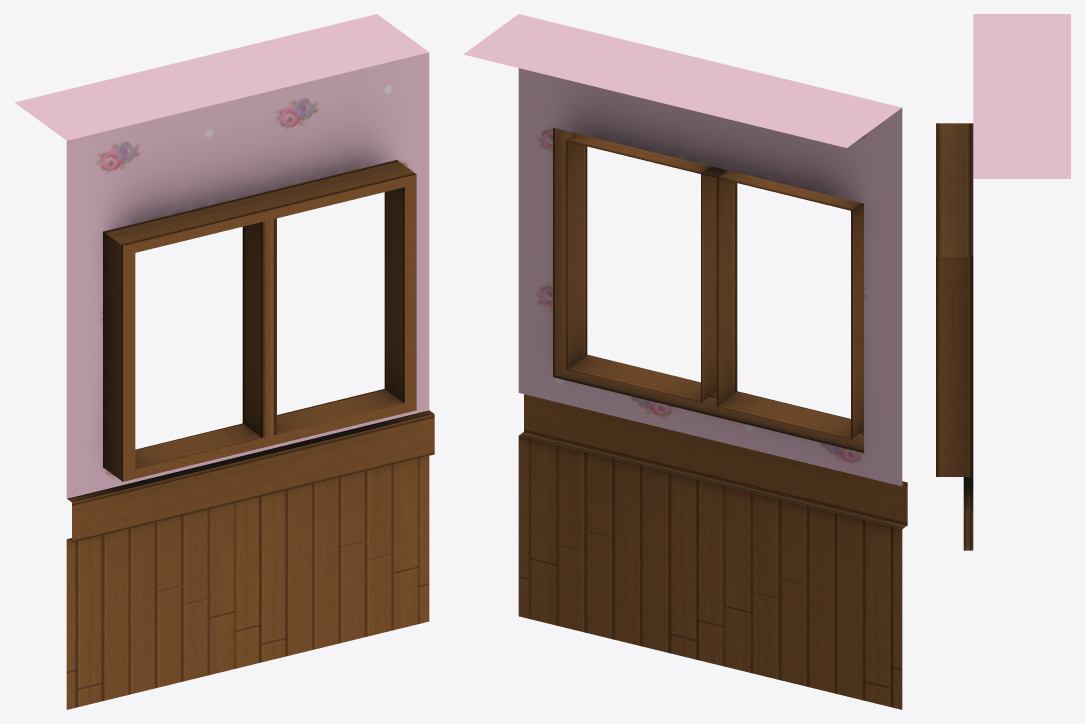
Rendered from Window2.fbx.
The picture shows the model from 3 angles, left to right: view 1: azimuth 30°, elevation 25°; view 2: azimuth 150°, elevation 25°; view 3: azimuth 270°, elevation 25°; orthographic projection. The views are drawn at different scales.
Parts seen in each view (by area): view 1: Window2; view 2: Window2; view 3: Window2.
Part boxes in pixels (x1=…): Window2: x1=15, y1=14, x2=434, y2=709; Window2: x1=463, y1=14, x2=907, y2=709; Window2: x1=936, y1=14, x2=1070, y2=550.
Size of the model in its own units: 200 by 300 by 69.08.
